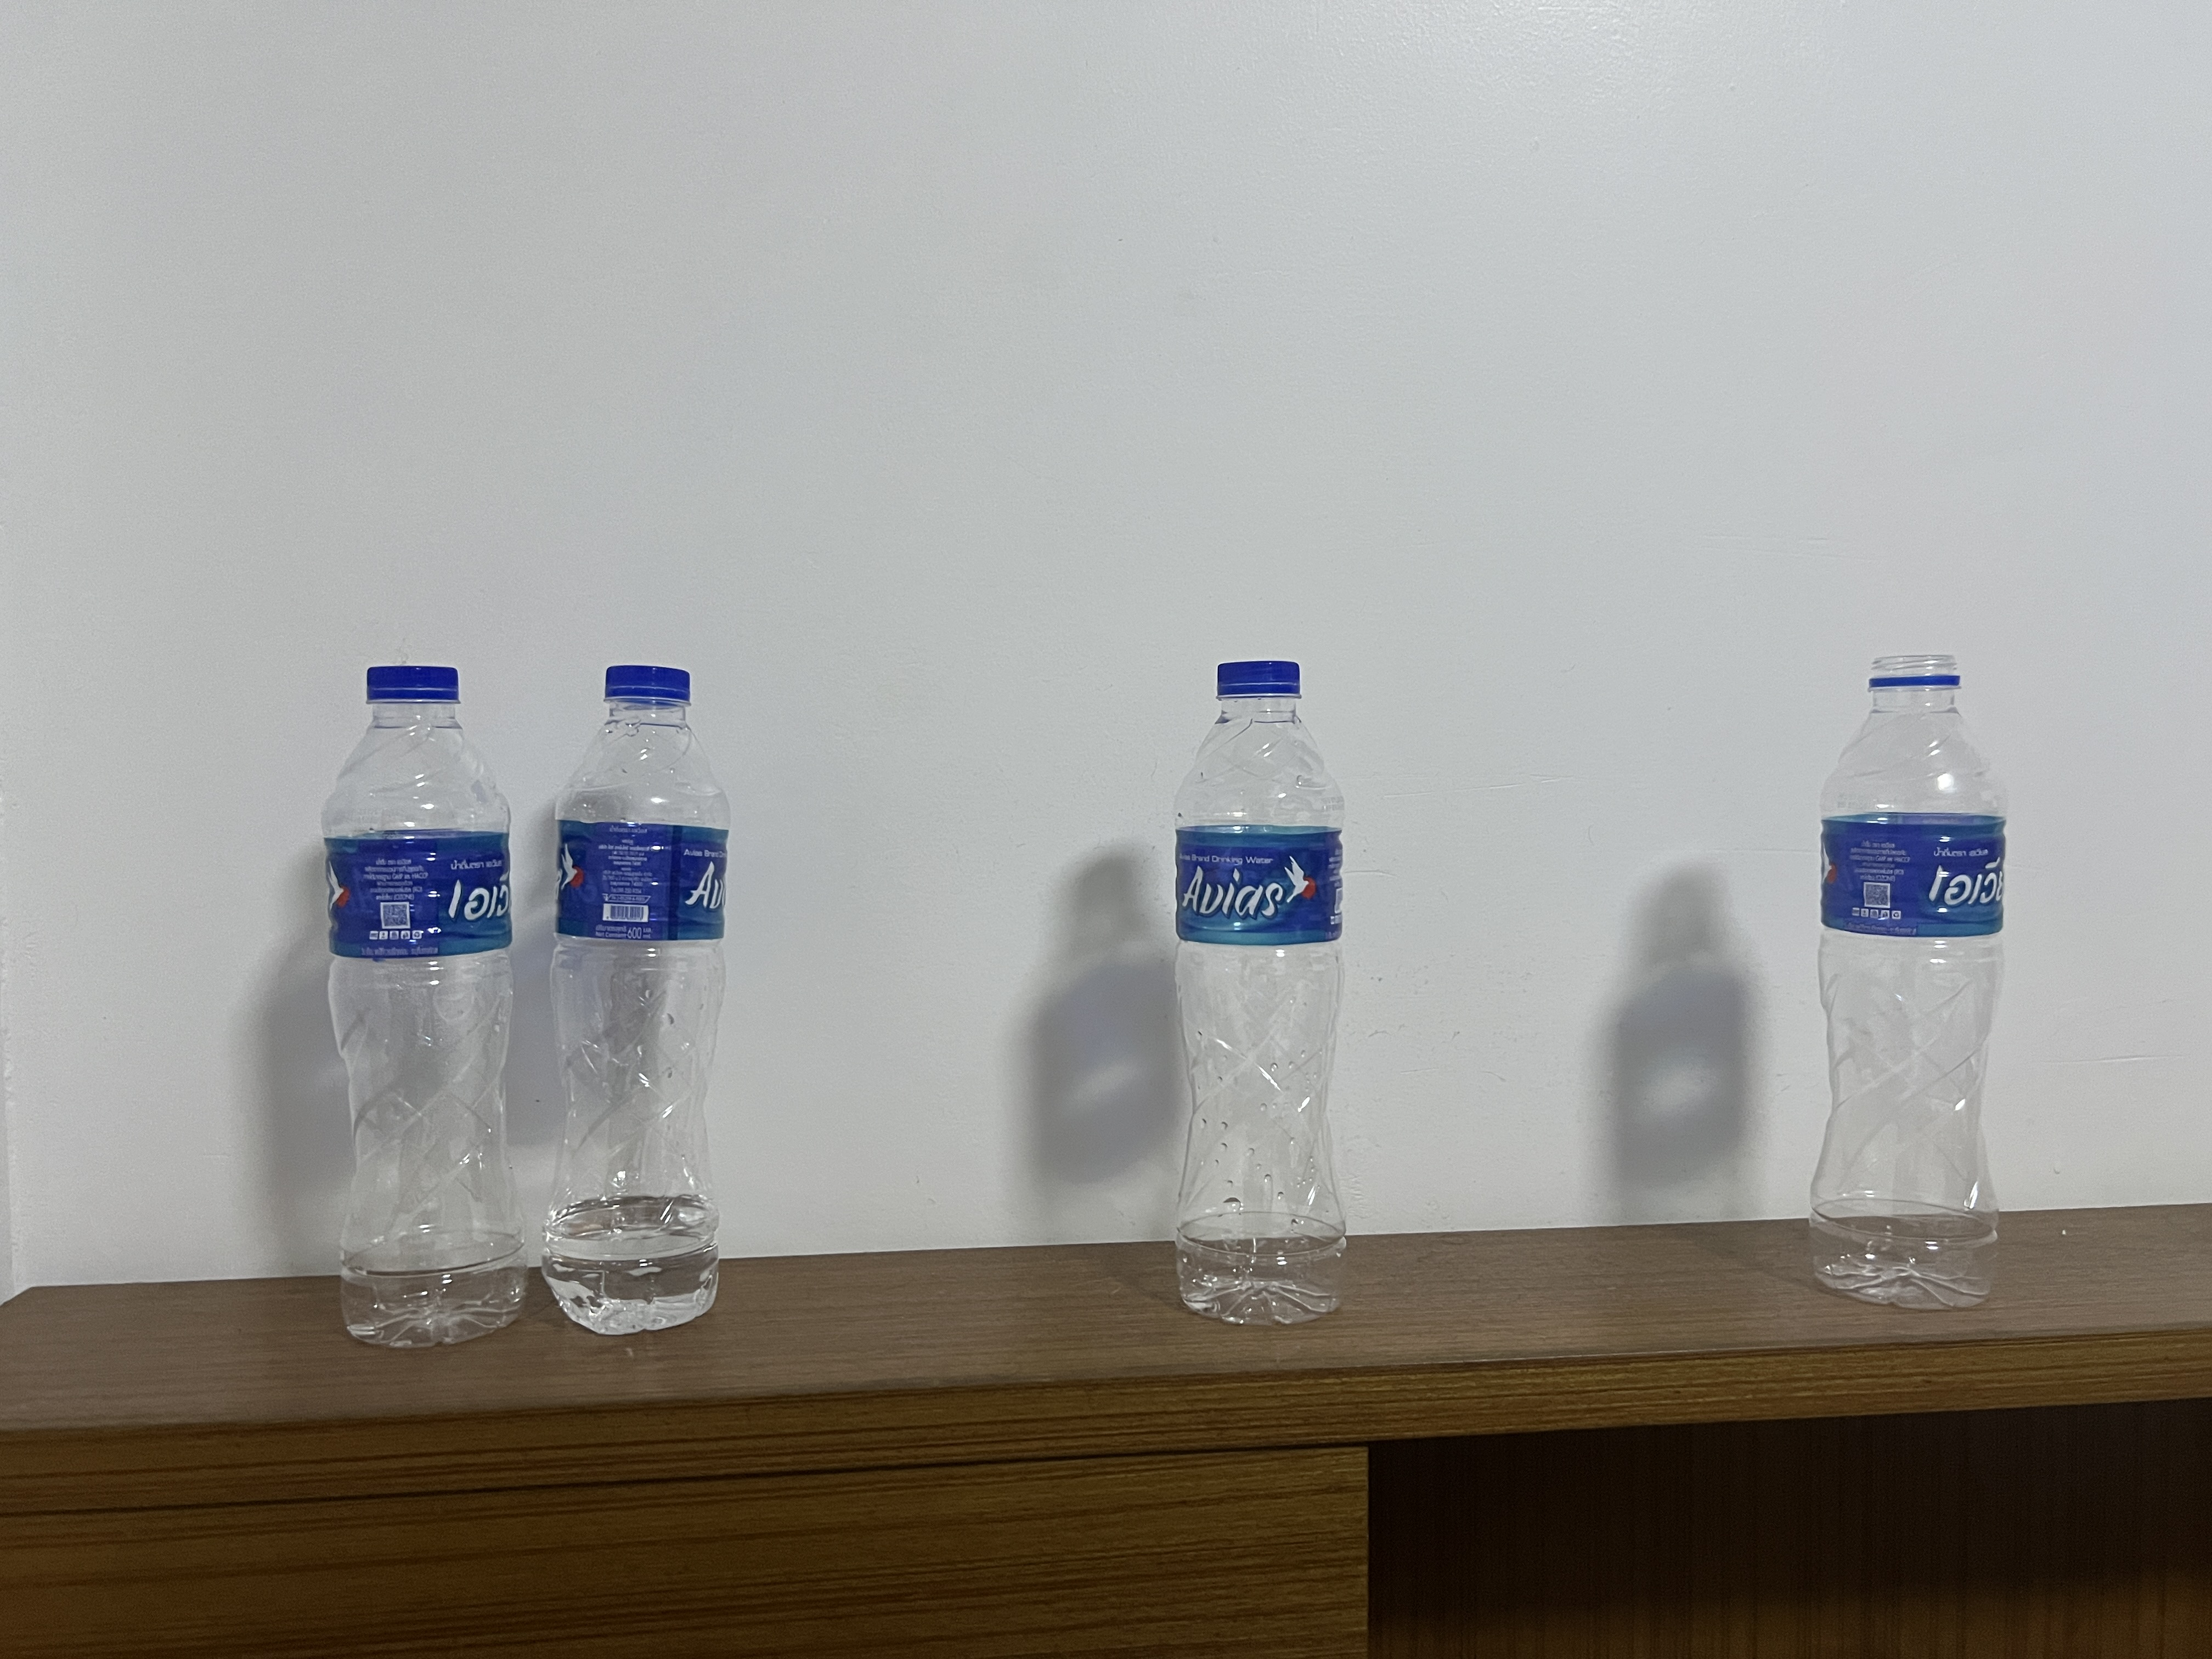plastic_bottle: (1143, 622, 1423, 1378), (510, 626, 789, 1364), (291, 636, 545, 1358), (1799, 606, 2033, 1333)
